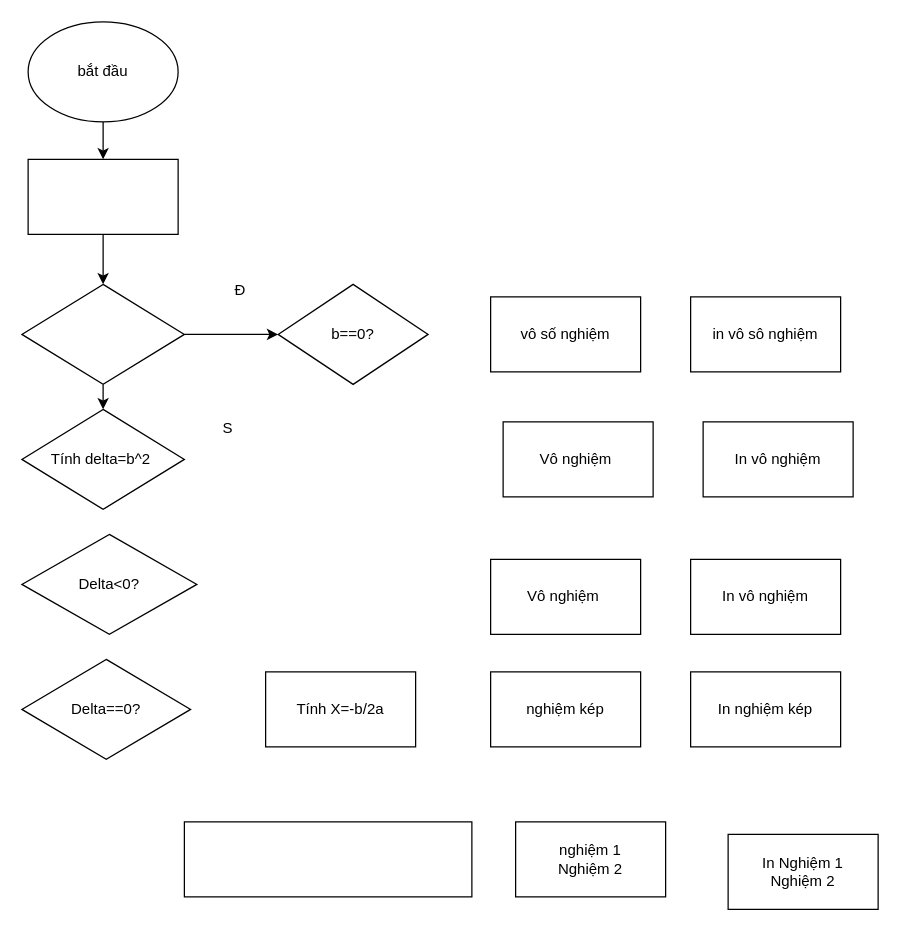
This 900x931 diagram has some shape labels left out. The shapes that lost their labels are listed below. From the top down, each one's centre as x and y in pixels, then its label:
At [102,196]: "nhập a b c".
At [102,333]: "a==0?".
At [327,859]: "Tính nghiệm 1=(-b = căn(delta))/ (2a) Tính Nghiệm 2 = (-b + căn(delta)) (2a)".
